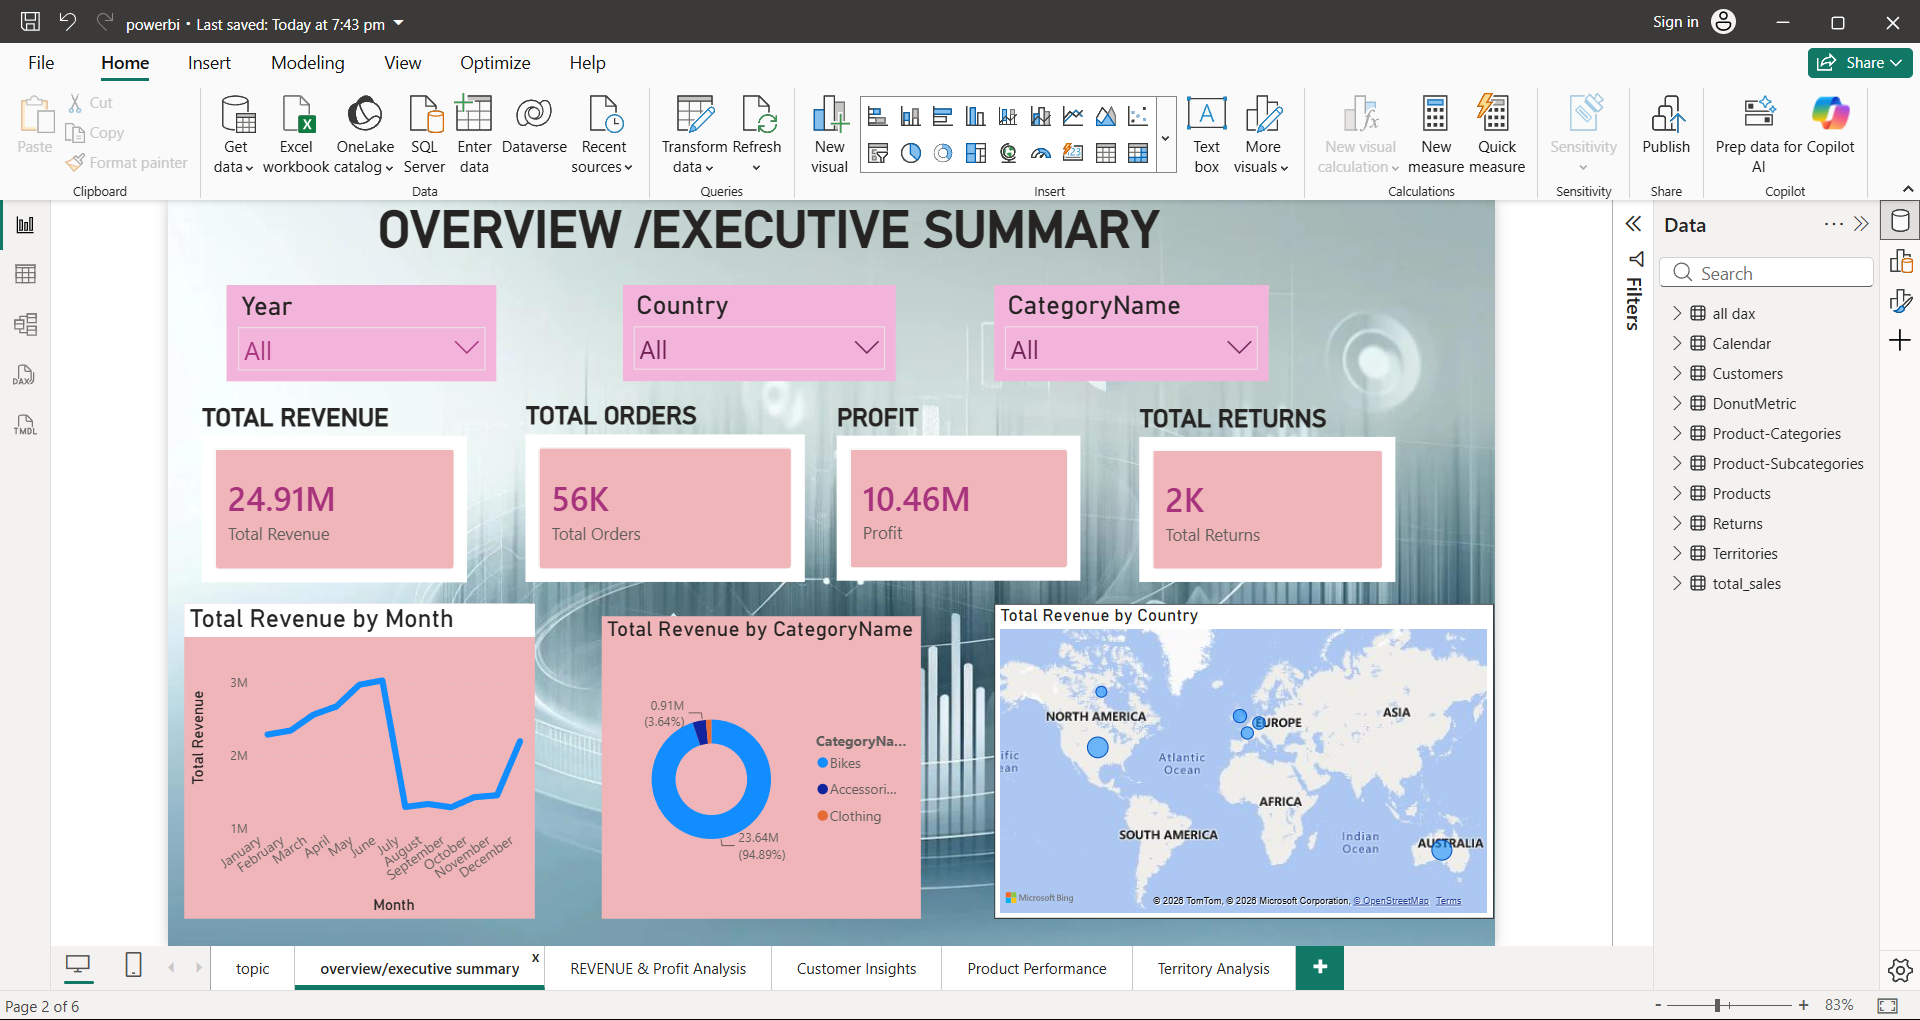

The dashboard page shown, as its layout file describes it:
{"tool":"powerbi","page":{"name":"overview/executive summary","canvas":[1280,720],"ordinal":1},"visuals":[{"type":"cardVisual","title":"TOTAL REVENUE","fields":{"Data":["total_sales.Total Revenue"]},"box":[27.7,195.4,266.6,178.6],"z":0},{"type":"cardVisual","title":"TOTAL ORDERS","fields":{"Data":["total_sales.Total Orders"]},"box":[339.9,194,279.4,179.8],"z":1000},{"type":"cardVisual","title":"PROFIT","fields":{"Data":["total_sales.Profit","total_sales.Profit"]},"box":[640.7,195.8,245.6,178],"z":2000},{"type":"cardVisual","title":"TOTAL RETURNS","fields":{"Data":["total_sales.Total Returns"]},"box":[933,196.3,257.4,177.8],"z":3000},{"type":"lineChart","fields":{"Category":["Calendar.Date.Variation.Date Hierarchy.Month"],"Y":["total_sales.Total Revenue"]},"box":[16,389.8,338.2,304.3],"z":4000},{"type":"donutChart","fields":{"Category":["Product-Categories.CategoryName"],"Y":["total_sales.Total Revenue"]},"box":[418.2,402.2,307.9,291.9],"z":5000},{"type":"slicer","fields":{"Values":["Calendar.Date.Variation.Date Hierarchy.Year"]},"box":[56.9,82.5,260.3,92.4],"z":6000},{"type":"slicer","fields":{"Values":["Territories.Country"]},"box":[439.5,82.5,263.1,92.4],"z":7000},{"type":"slicer","fields":{"Values":["Product-Categories.CategoryName"]},"box":[797.9,82.5,264.5,92.4],"z":8000},{"type":"map","fields":{"Category":["Territories.Country"],"Size":["total_sales.Total Revenue"]},"box":[797.3,389.8,482.3,304.3],"z":9000},{"type":"textbox","title":"OVERVIEW /EXECUTIVE SUMMARY","box":[197.6,0,802.7,60.5],"z":10000}]}

Visuals, with their boxes on the page's 1280x720 design canvas (x1, y1, x2, y2). These are canvas units, not pixel positions in the 1920x1020 screenshot, which may show the page scaled, cropped or inside an application window:
"TOTAL REVENUE" cardVisual: <bbox>28, 195, 294, 374</bbox>
"TOTAL ORDERS" cardVisual: <bbox>340, 194, 619, 374</bbox>
"PROFIT" cardVisual: <bbox>641, 196, 886, 374</bbox>
"TOTAL RETURNS" cardVisual: <bbox>933, 196, 1190, 374</bbox>
lineChart - Calendar.Date.Variation.Date Hierarchy.Month x total_sales.Total Revenue: <bbox>16, 390, 354, 694</bbox>
donutChart - Product-Categories.CategoryName x total_sales.Total Revenue: <bbox>418, 402, 726, 694</bbox>
slicer - Calendar.Date.Variation.Date Hierarchy.Year: <bbox>57, 82, 317, 175</bbox>
slicer - Territories.Country: <bbox>440, 82, 703, 175</bbox>
slicer - Product-Categories.CategoryName: <bbox>798, 82, 1062, 175</bbox>
map - Territories.Country x total_sales.Total Revenue: <bbox>797, 390, 1280, 694</bbox>
"OVERVIEW /EXECUTIVE SUMMARY" textbox: <bbox>198, 0, 1000, 60</bbox>
